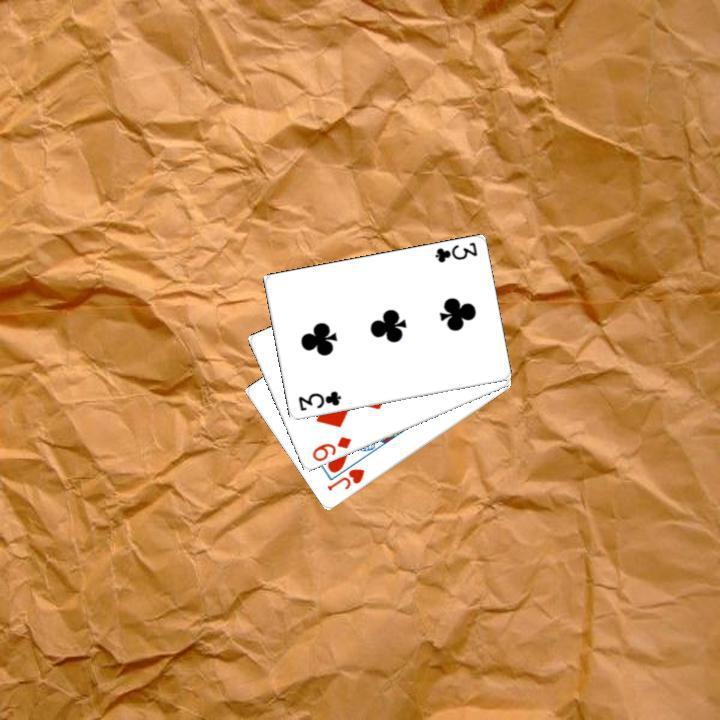3: (430, 238, 479, 265), (293, 387, 343, 413)
9: (307, 432, 353, 464)
J: (322, 464, 366, 493)
